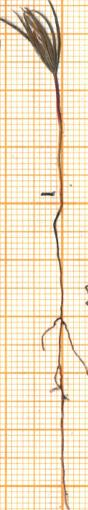flower: (0, 0, 69, 75)
root: (37, 194, 88, 509)
stem: (47, 79, 69, 196)
